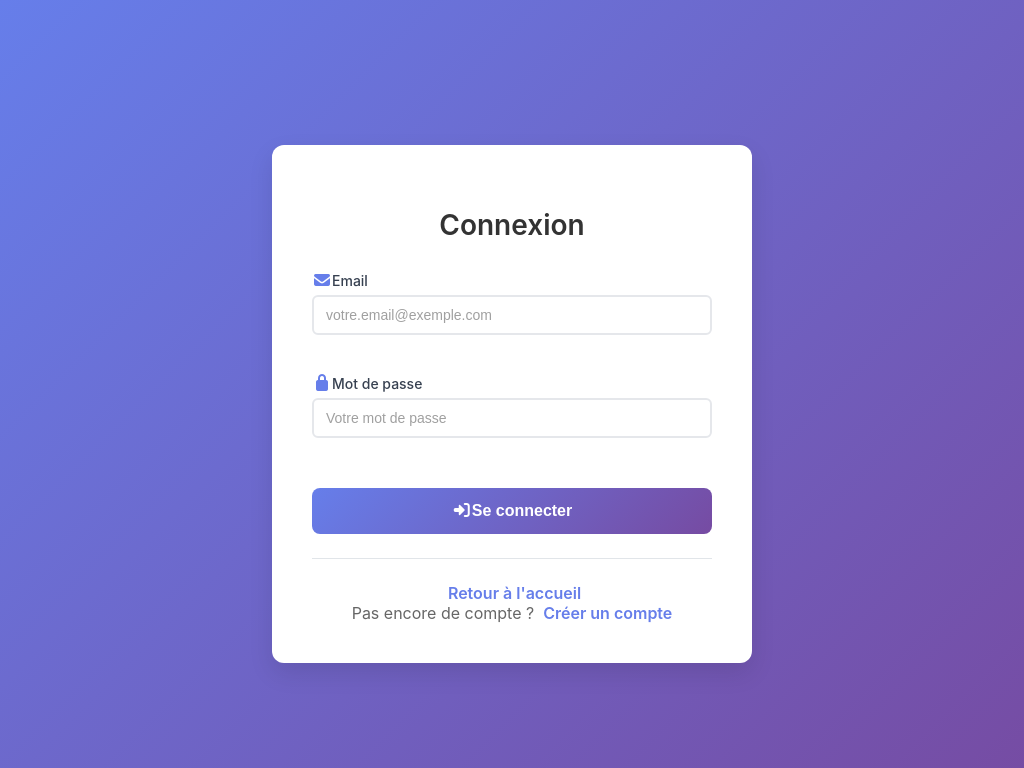
Scenario: Login Component › displays error message on login failure
In the field labelled "Email": (512, 315) [312,295,712,335], type "test@example.com"
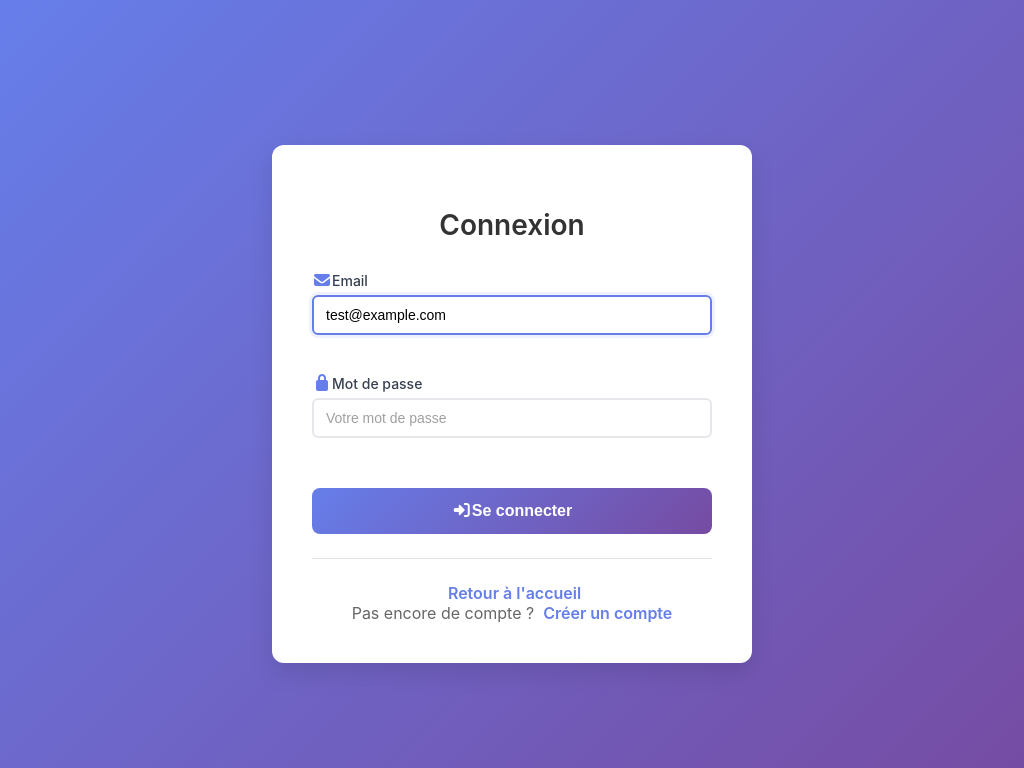
In the password field labelled "Mot de passe": (512, 418) [312,398,712,438], type "wrongpassword"
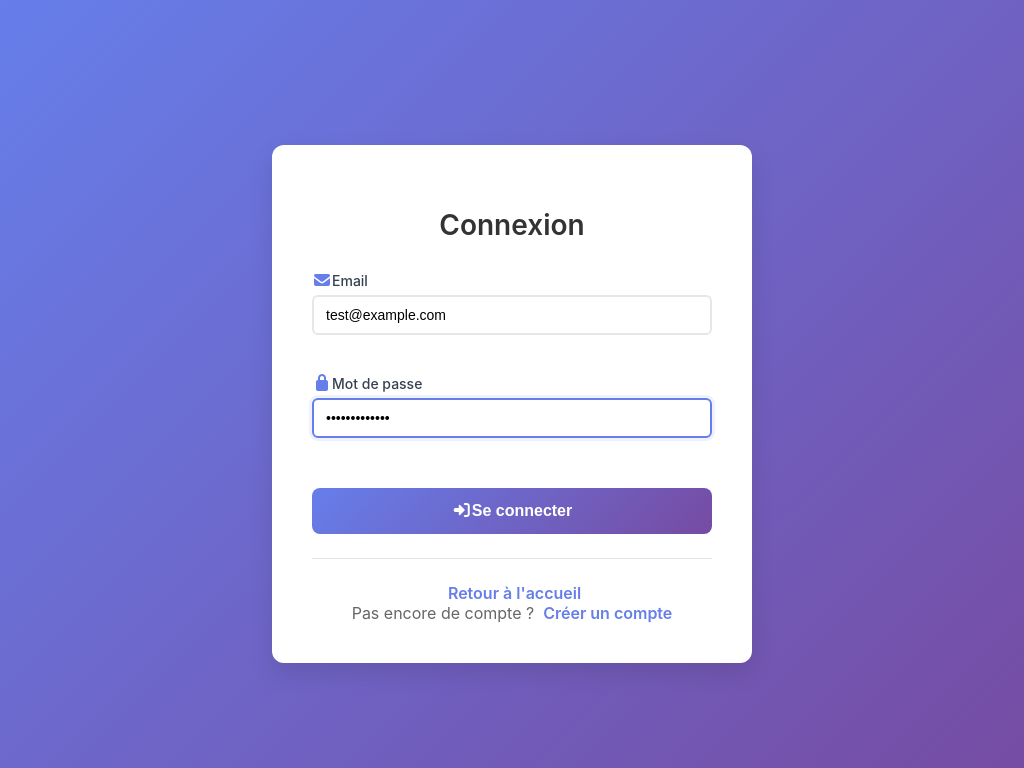
Click the button "Se connecter": (512, 511) [312,488,712,534]
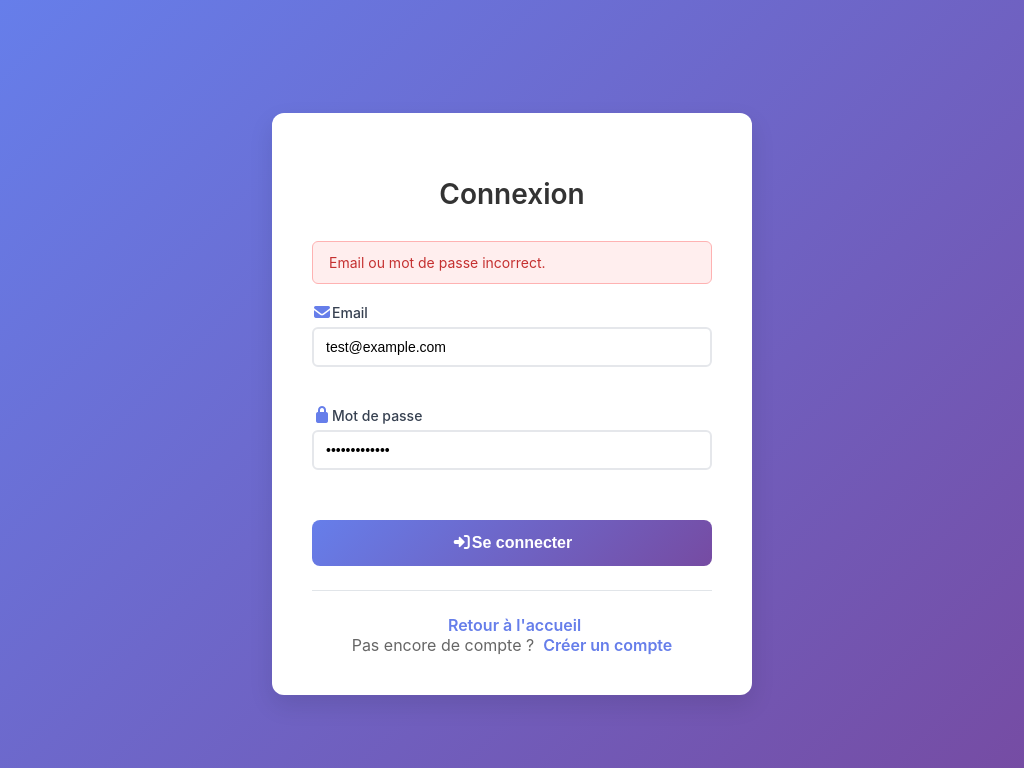
Expected: the text "Email ou mot de passe incorrect." is shown, [312,241,712,284]
